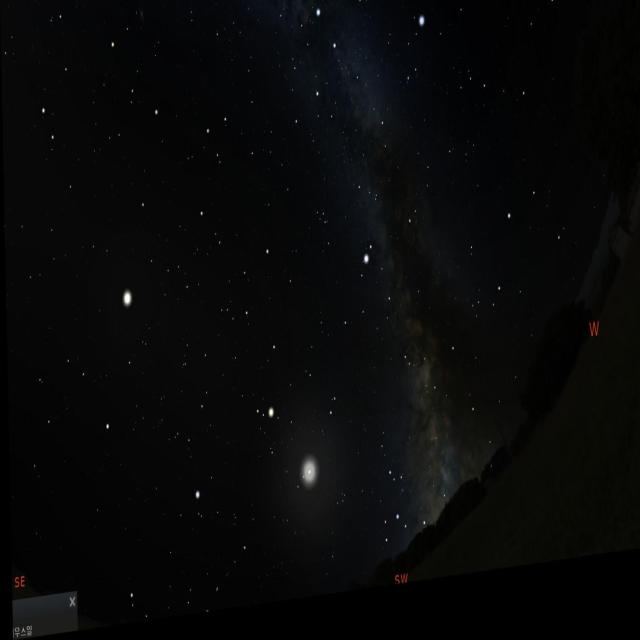aquila: (335, 238, 421, 392)
cygnus: (305, 0, 390, 155)
lyra: (398, 16, 432, 118)
moon: (290, 437, 323, 518)
